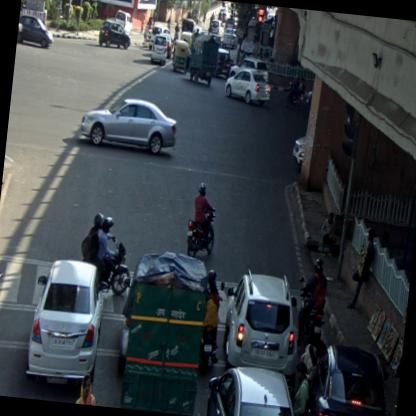car: (22, 254, 110, 402), (218, 266, 306, 384), (78, 92, 180, 160), (307, 342, 401, 415), (205, 361, 315, 415), (222, 66, 273, 108), (16, 12, 56, 52), (228, 55, 270, 84), (97, 20, 132, 51), (147, 25, 171, 52), (150, 32, 169, 66), (113, 9, 134, 34), (221, 28, 240, 50), (208, 18, 224, 40)
motorcycle: (76, 211, 136, 296), (292, 256, 329, 350), (198, 268, 226, 377), (184, 180, 220, 258), (282, 71, 306, 112), (0, 243, 6, 359), (172, 21, 180, 44)
truck: (122, 248, 212, 415), (184, 34, 220, 89)
